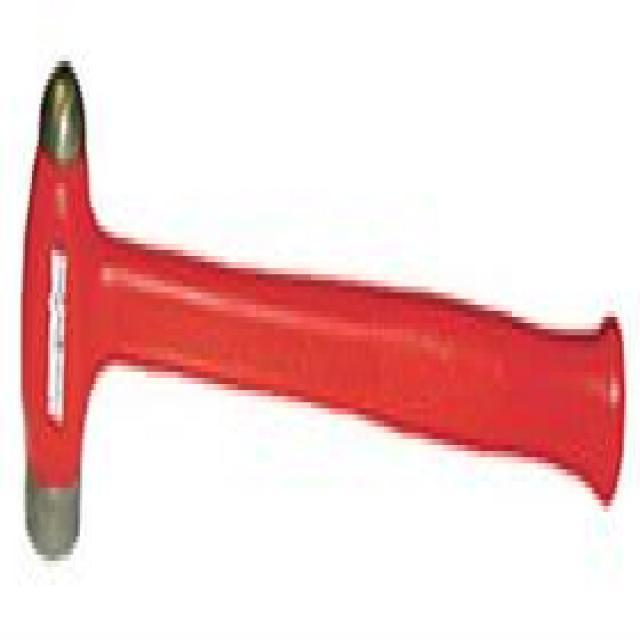hammer: (9, 33, 639, 587)
